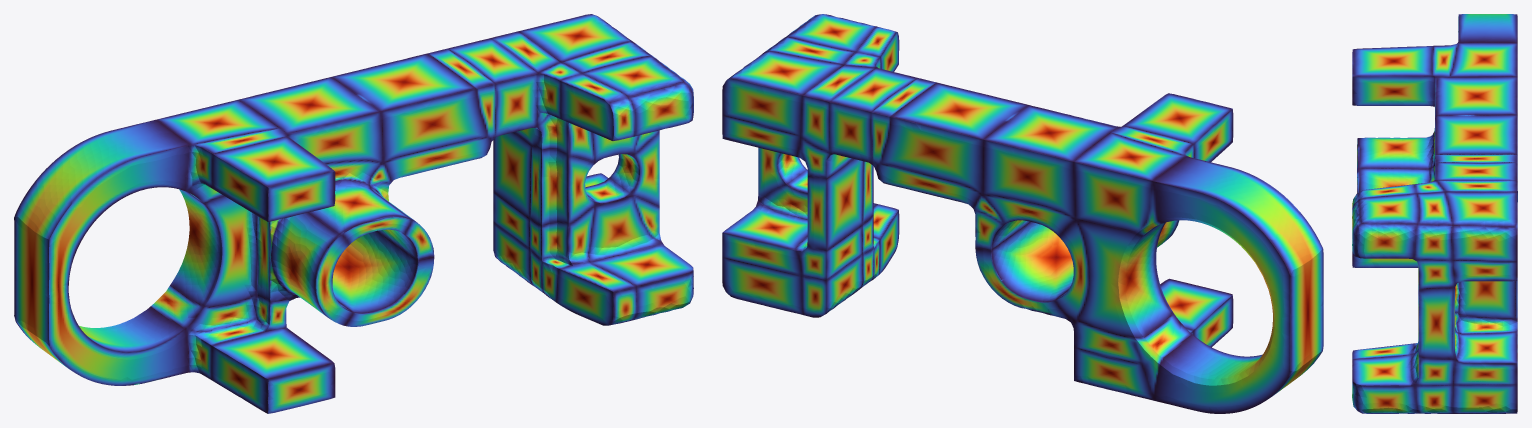
Rendered from gen0.glb.
3 views of the same model, side by side, from view 1: azimuth 30°, elevation 25°; view 2: azimuth 150°, elevation 25°; view 3: azimuth 270°, elevation 25° (orthographic). The views are drawn at different scales.
Parts seen in each view (by area): view 1: Node; view 2: Node; view 3: Node.
Boxes of the visible parts, x1,y1,x2,y2 form: Node: (14,14,693,413); Node: (722,14,1323,413); Node: (1352,14,1517,413).
Size of the model in its own units: 34.6 by 12.8 by 10.
Materials: 1 (1 with a texture image).
